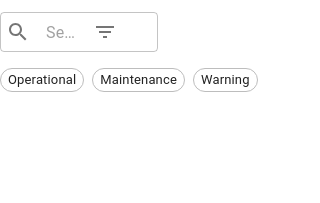
Scenario: SearchBar Component › shows suggestions when typing
In the dropdown with placeholder "Search equipment...": (59, 32) x1=38 y1=18 x2=80 y2=46, type "Machine"
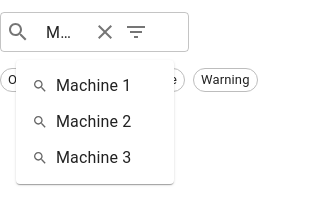
Now the option "Machine 1" is shown, box x1=32 y1=76 x2=131 y2=95
Now the option "Machine 2" is shown, box x1=32 y1=112 x2=131 y2=131
Now the option "Machine 3" is shown, box x1=32 y1=148 x2=131 y2=167
